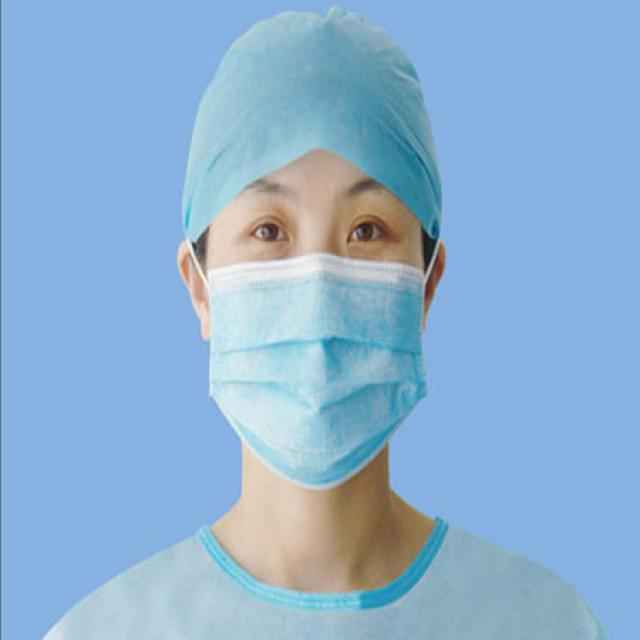mask: (209, 166, 428, 493)
